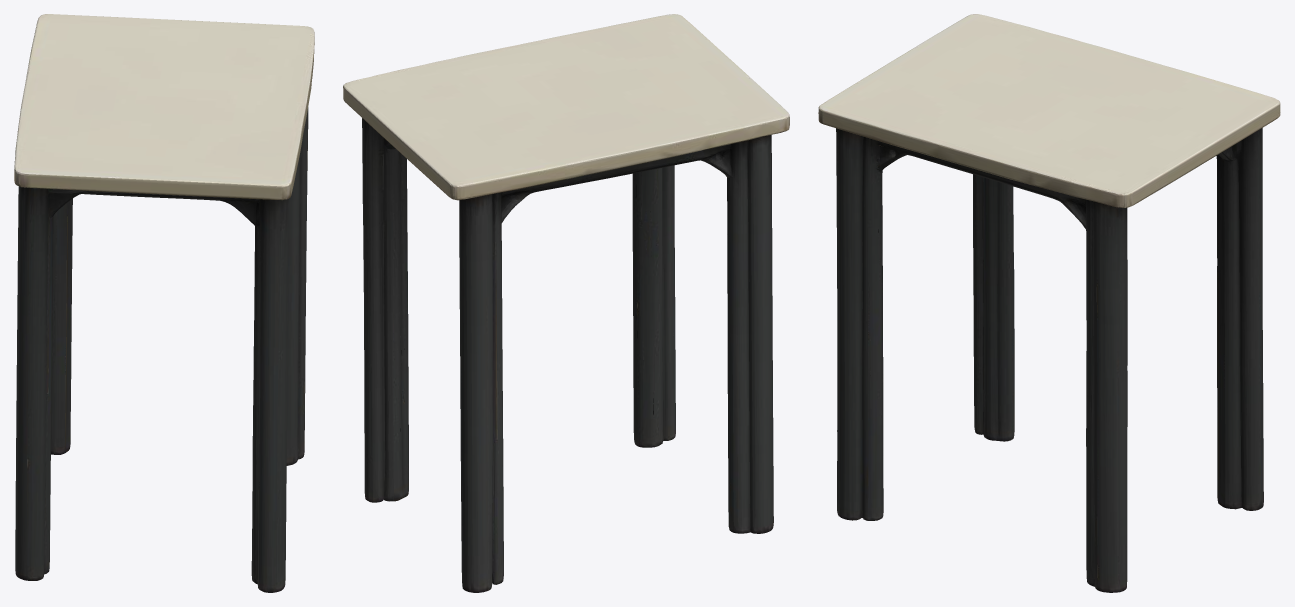
File: light-colored_wooden_table_partially_visible_on_far_right_000.glb
The picture shows the model from 3 angles, left to right: view 1: azimuth 30°, elevation 25°; view 2: azimuth 150°, elevation 25°; view 3: azimuth 270°, elevation 25°; orthographic projection.
Visible parts, largest first — view 1: phase2_final_light-colored_wooden_table_partially_visible_on; view 2: phase2_final_light-colored_wooden_table_partially_visible_on; view 3: phase2_final_light-colored_wooden_table_partially_visible_on.
Boxes of the visible parts, box(x1,y1,x2,y2) form: phase2_final_light-colored_wooden_table_partially_visible_on: box(14, 14, 314, 592); phase2_final_light-colored_wooden_table_partially_visible_on: box(343, 14, 789, 592); phase2_final_light-colored_wooden_table_partially_visible_on: box(818, 14, 1280, 592).
Size of the model in its own units: 0.394 by 0.422 by 0.4311.
Materials: 1 (1 with a texture image).
